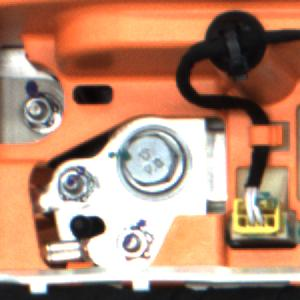nut_b: (118, 124, 193, 202)
screw_s: (110, 222, 158, 271), (15, 90, 56, 132), (56, 162, 93, 206)
